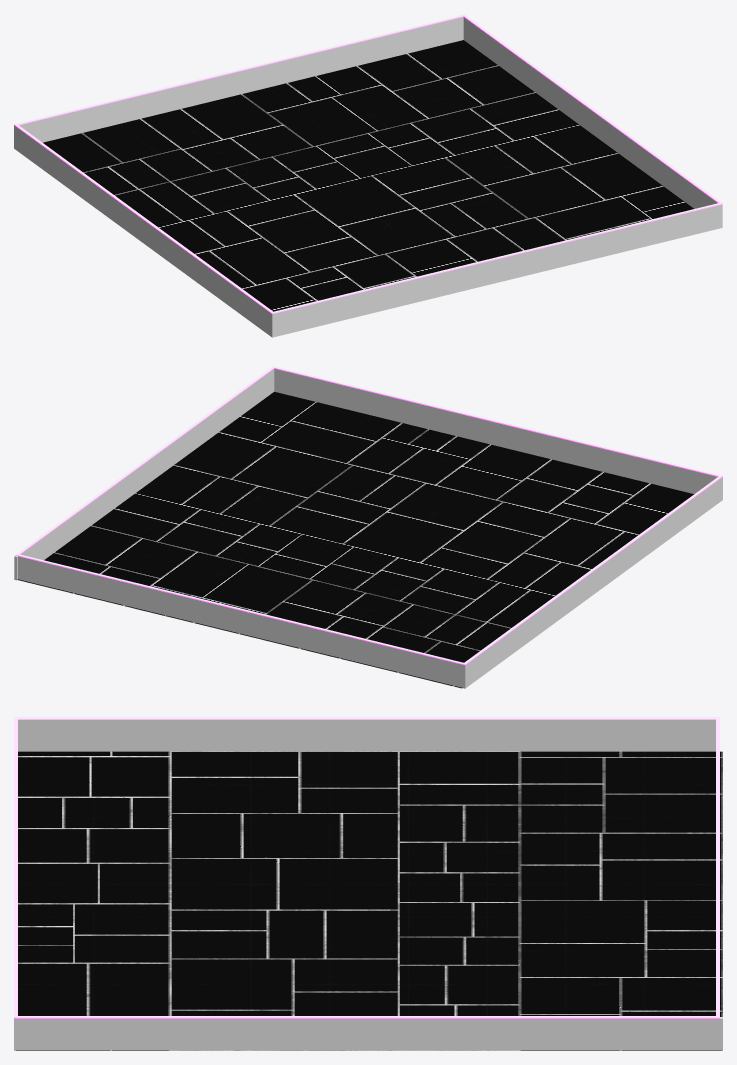
Rendered from MeshBaker (0)-mesh-mesh.fbx.
3 views of the same model, one above another, from view 1: azimuth 30°, elevation 25°; view 2: azimuth 150°, elevation 25°; view 3: azimuth 270°, elevation 25° (orthographic). The views are drawn at different scales.
Visible parts, largest first — view 1: MeshBaker__0__mesh_mesh; view 2: MeshBaker__0__mesh_mesh; view 3: MeshBaker__0__mesh_mesh.
Boxes of the visible parts, box(x1,y1,x2,y2) form: MeshBaker__0__mesh_mesh: box(14, 14, 722, 337); MeshBaker__0__mesh_mesh: box(14, 366, 722, 688); MeshBaker__0__mesh_mesh: box(14, 717, 722, 1050).
Size of the model in its own units: 2011 by 103 by 2004.
